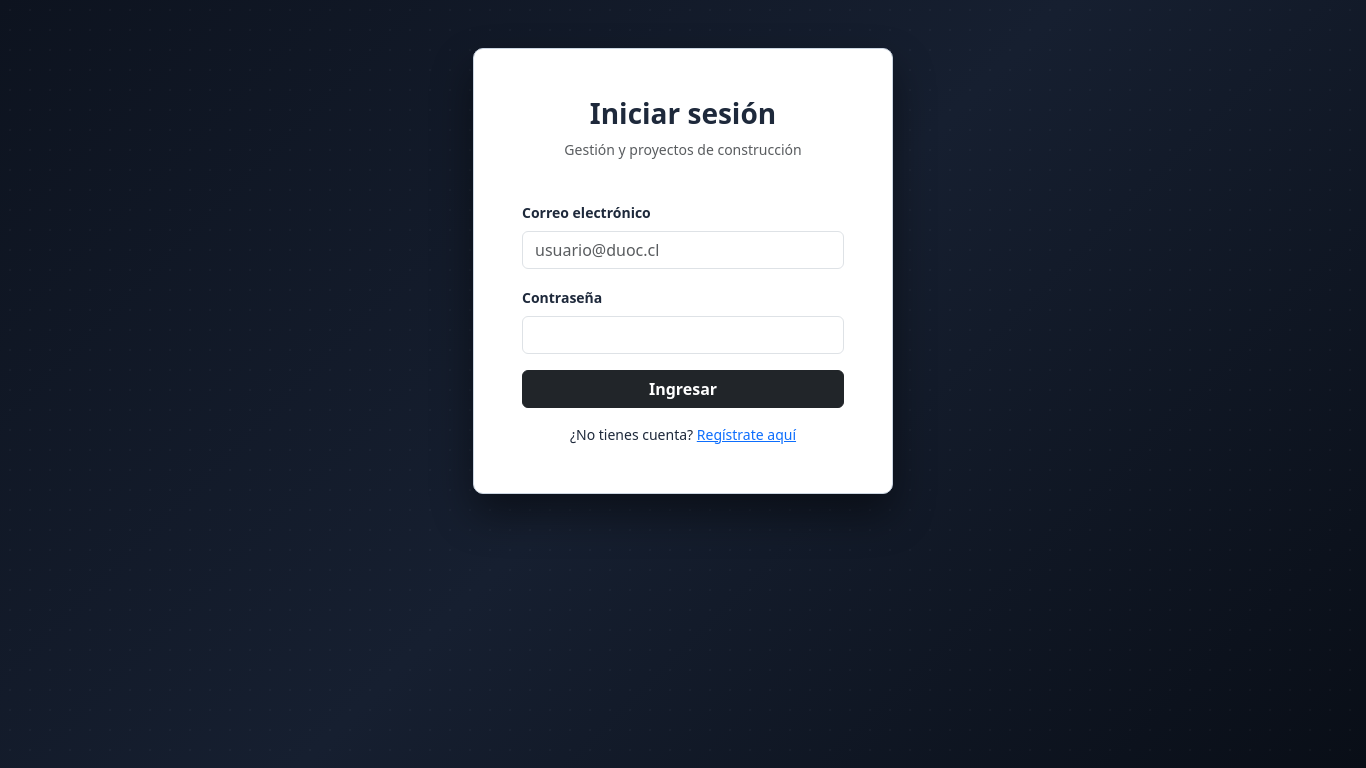
it: Pruebas de estado: Login › con contraseña incorrecta muestra un mensaje y no inicia sesión
Type "mathias@duoc.cl" into the field labelled "Correo electrónico" at {"x": 683, "y": 250}, box [522,231,844,269]
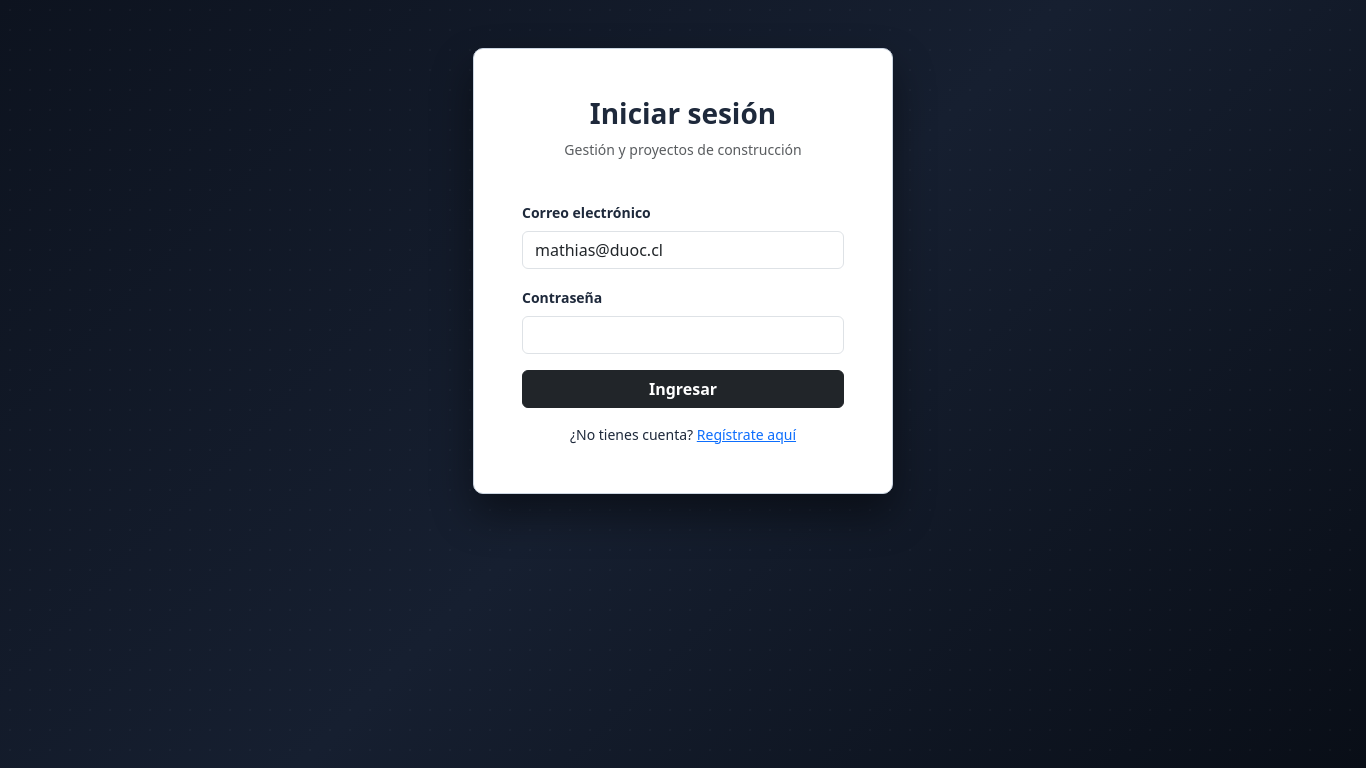
Type "otra123" into the password field labelled "Contraseña" at {"x": 683, "y": 335}, box [522,316,844,354]
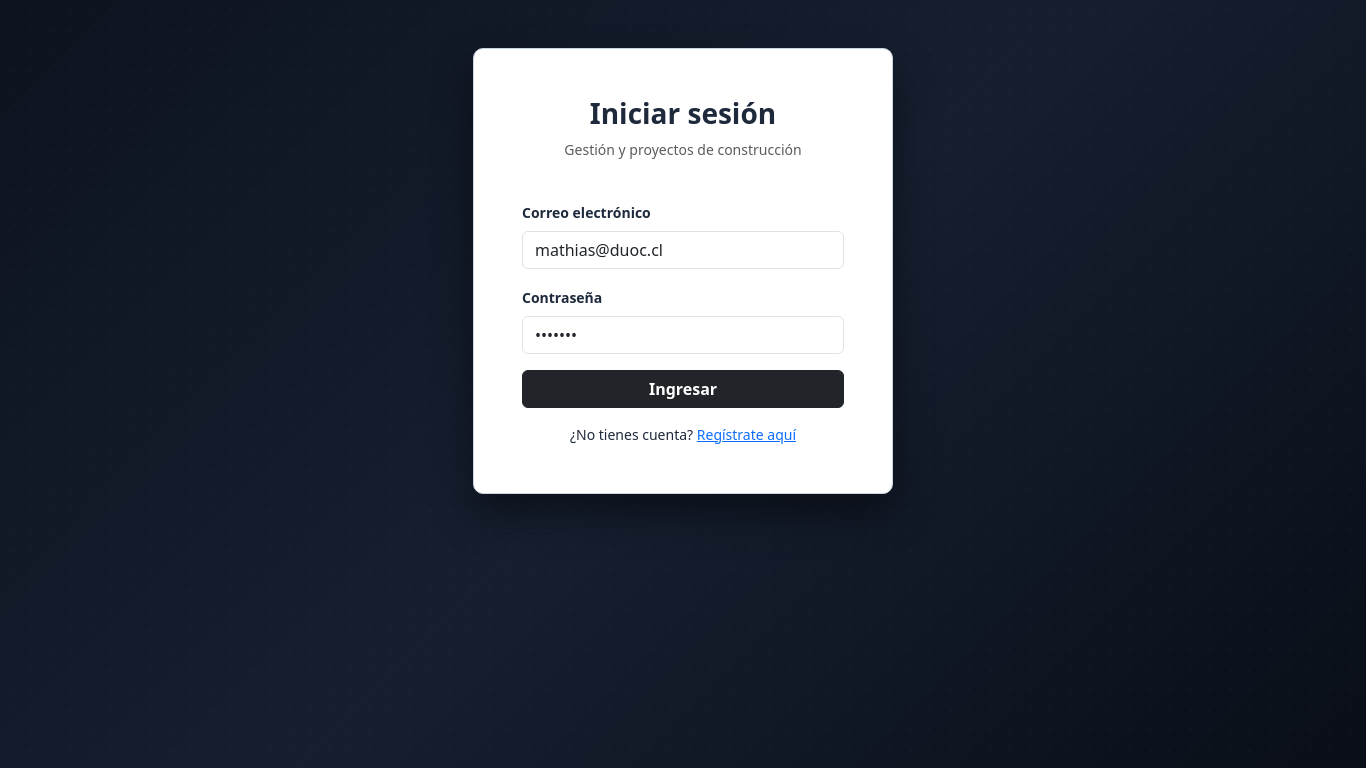
Click the button "Ingresar" at {"x": 683, "y": 389}, box [522,370,844,408]
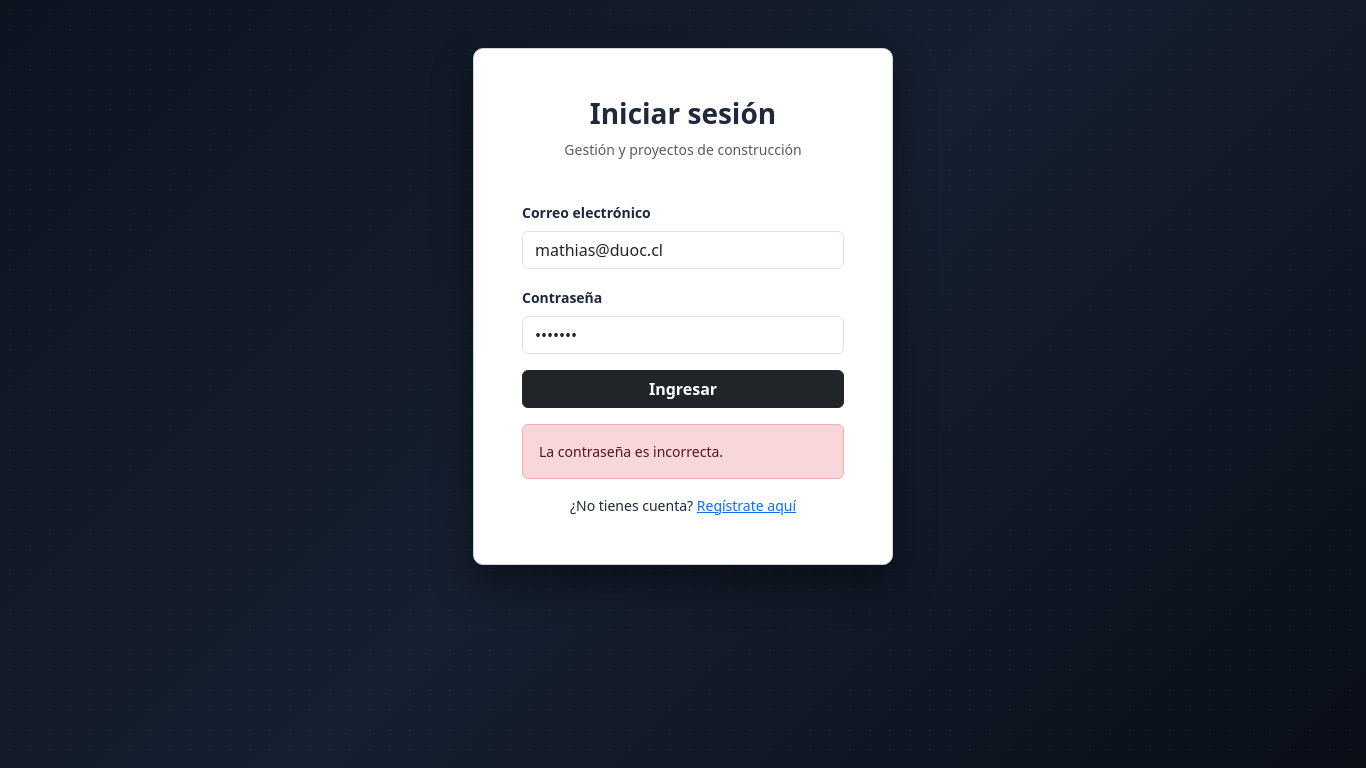
Expected: the message reads "La contraseña es incorrecta.", [539,442,723,461]
